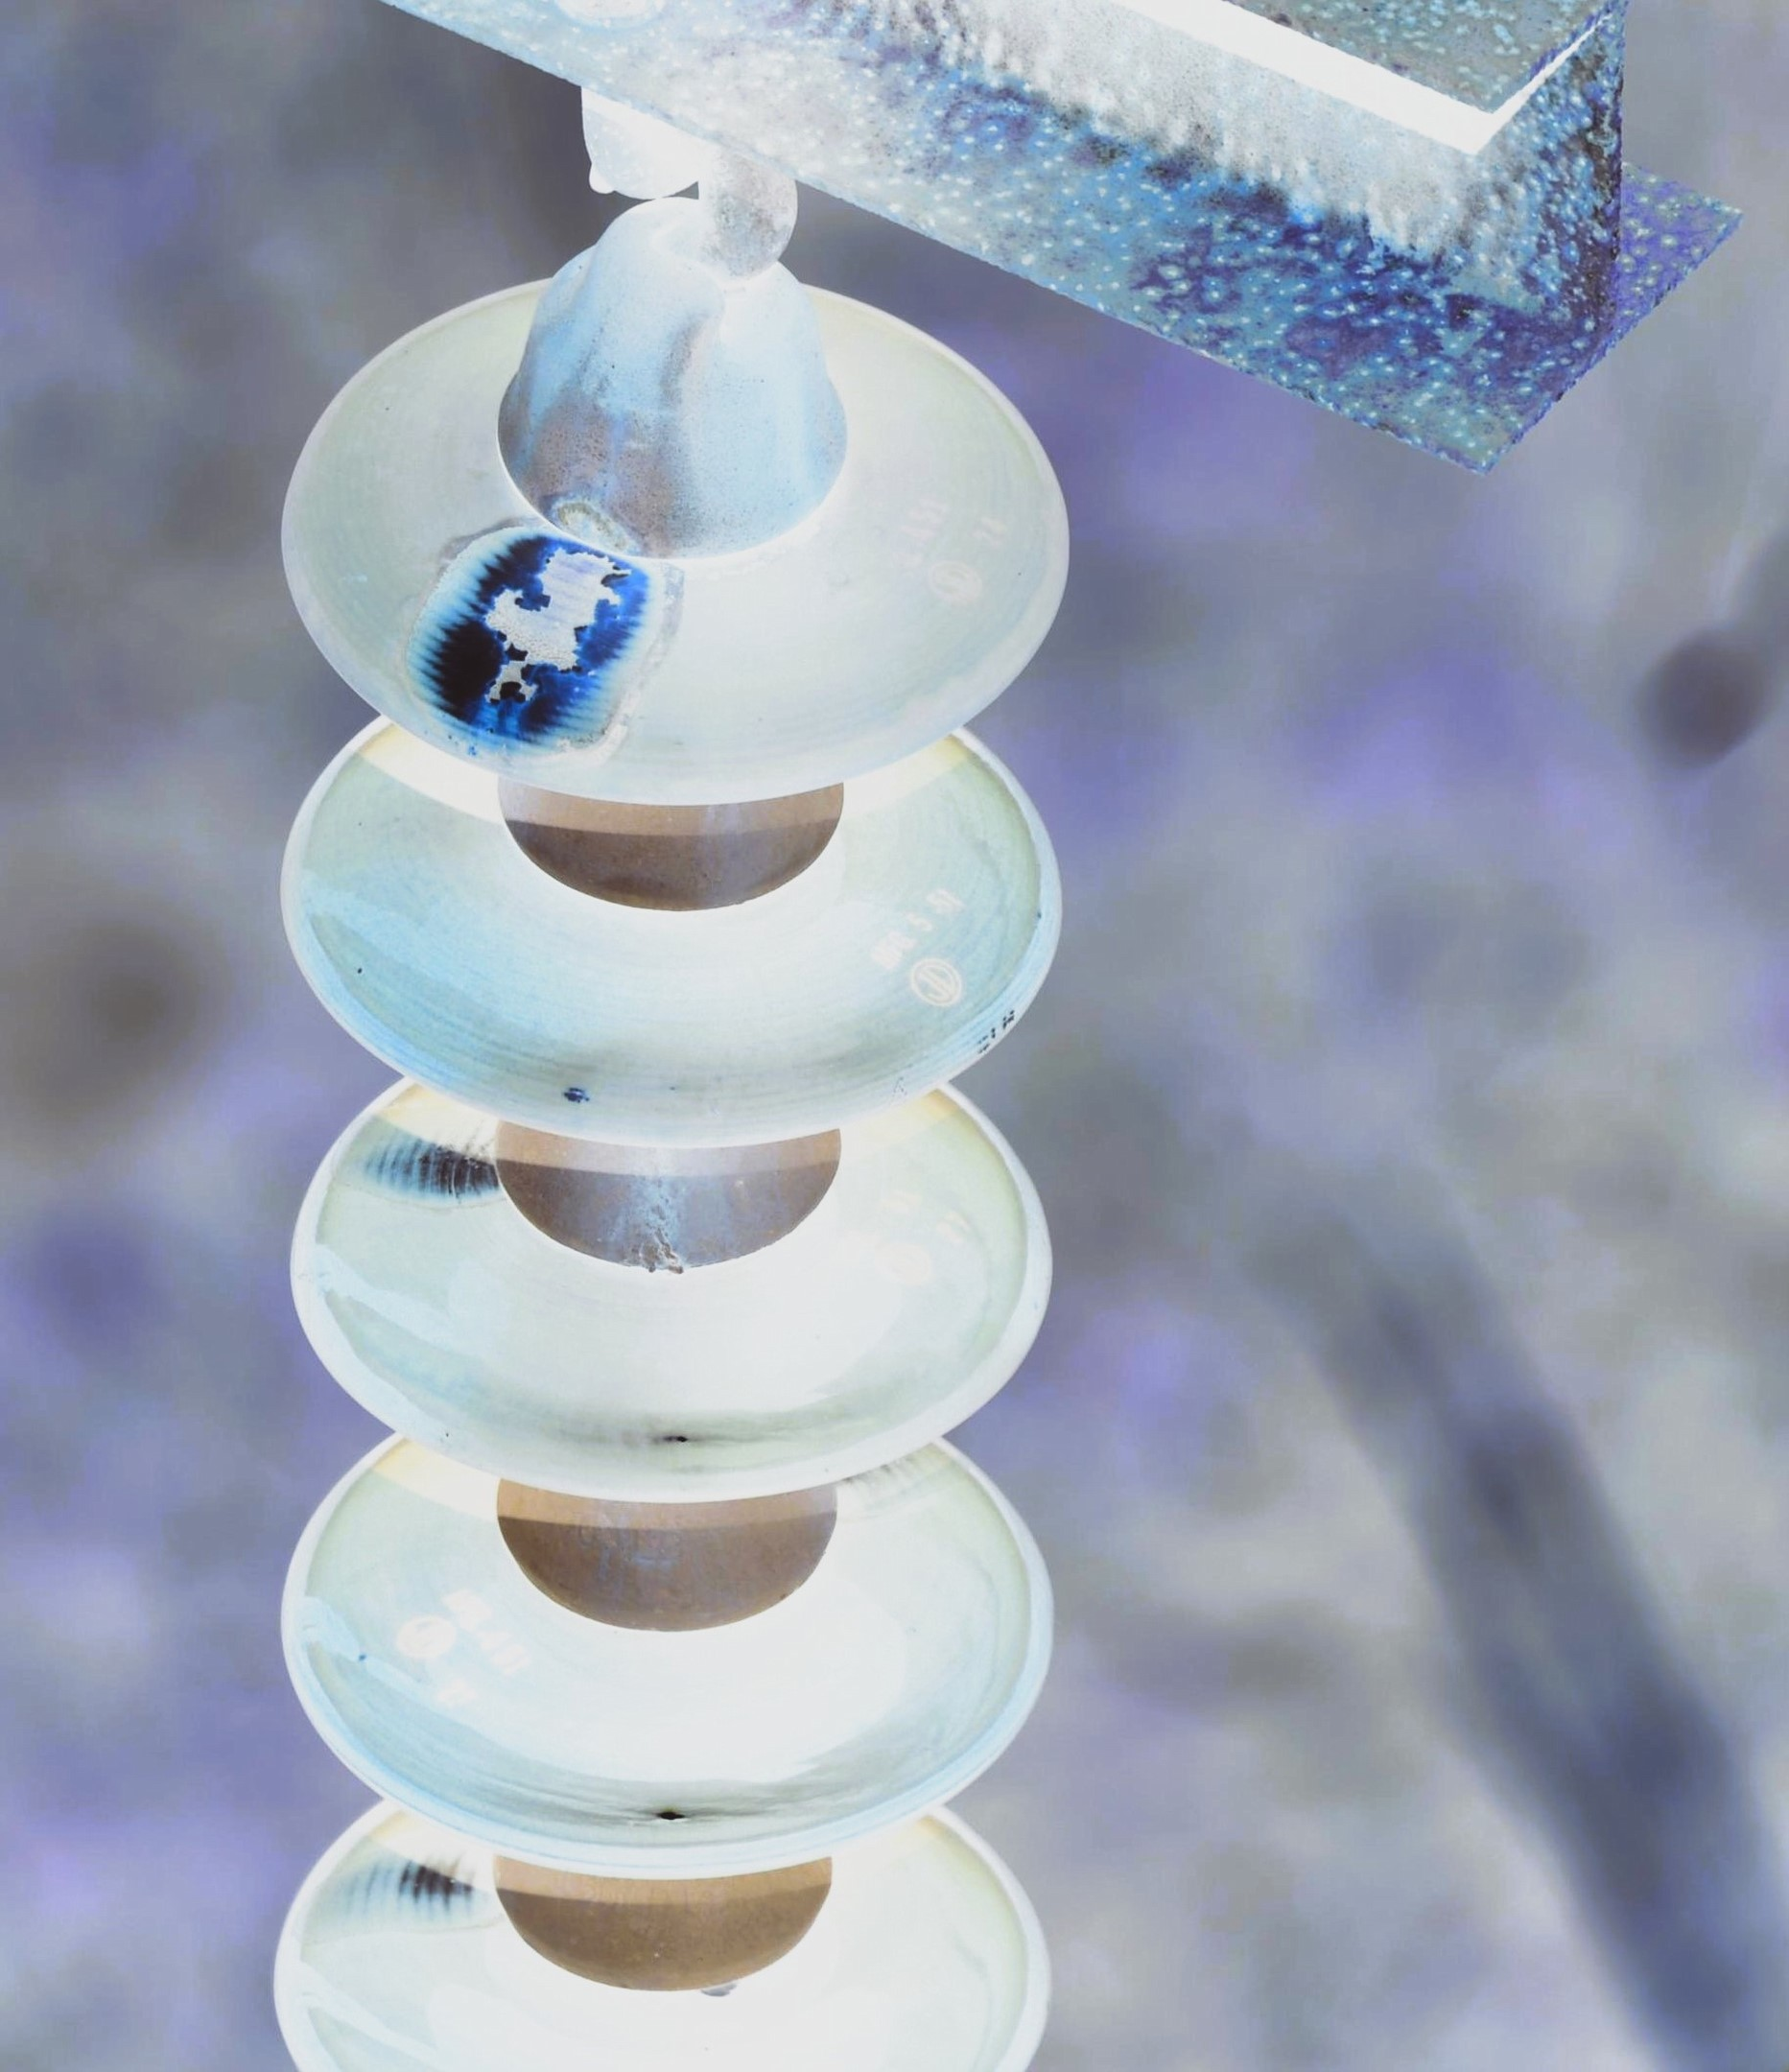Insulator flashover: (257, 241, 1082, 809)
